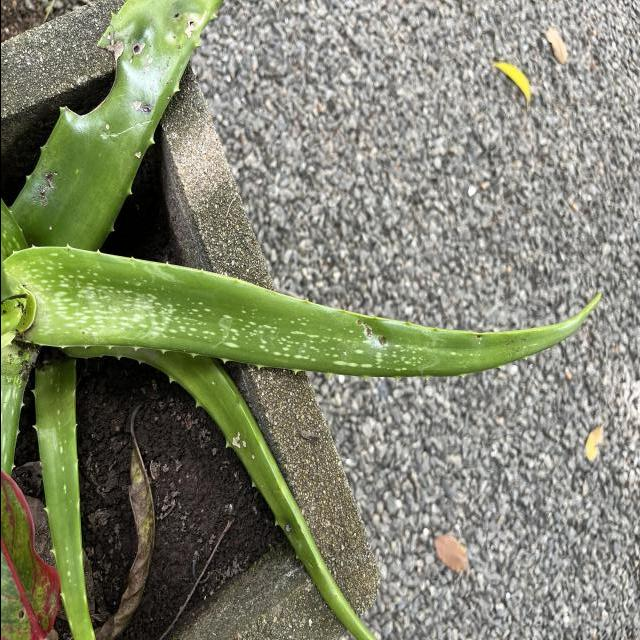Aloe vera: (0, 238, 606, 382)
